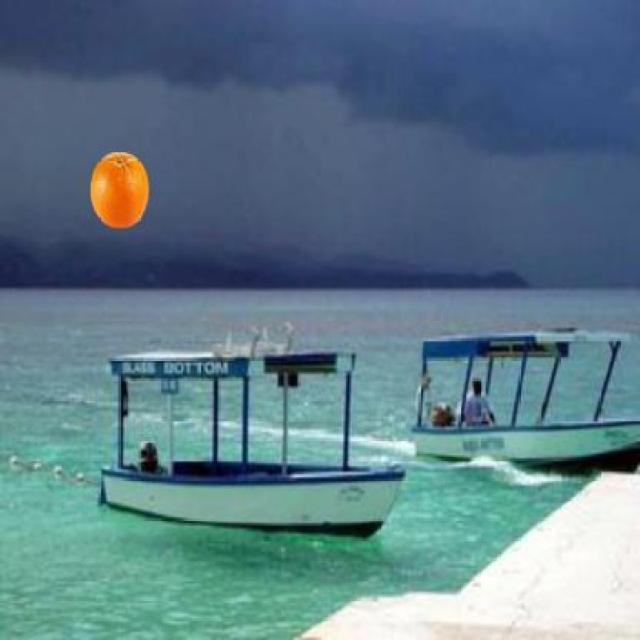Orange: (88, 149, 149, 229)
